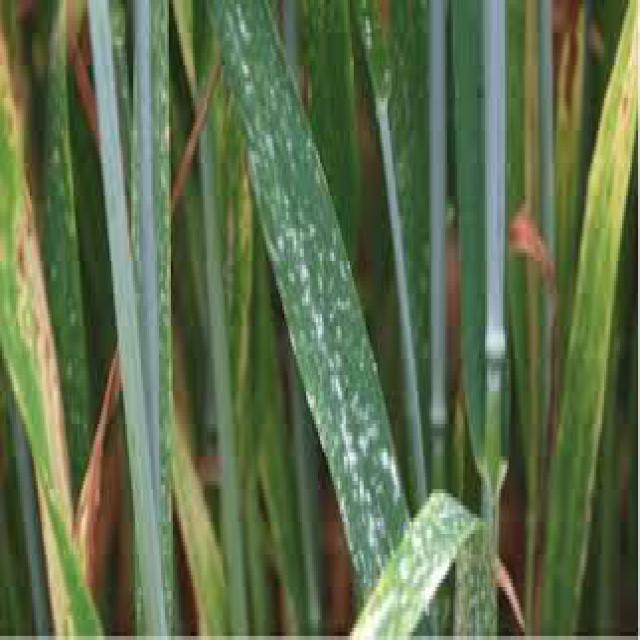wheat-powdery-mildew: (208, 0, 409, 590), (341, 497, 493, 640)
